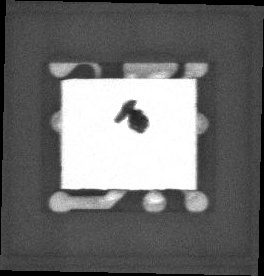DIE_INK: (108, 104, 143, 140)
